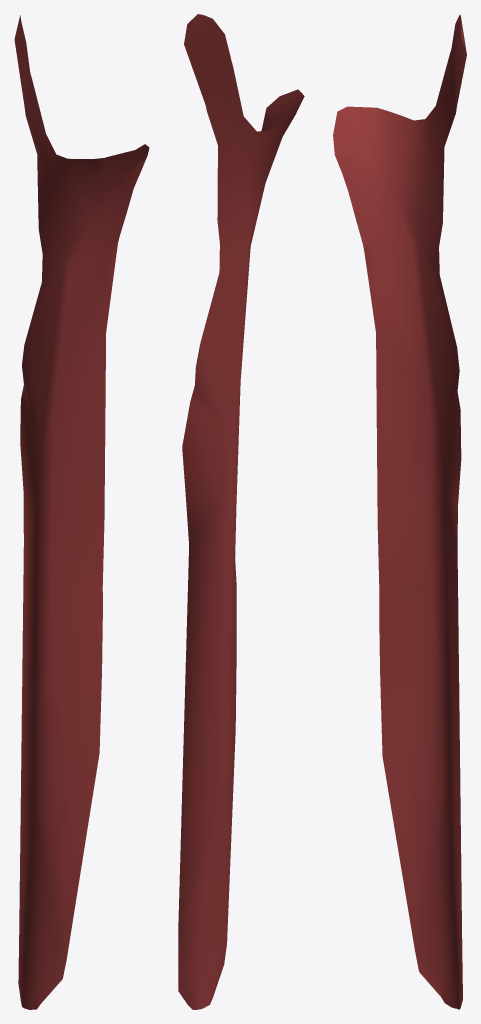
The model's file is fibularis-longus-muscle-or.glb.
3 views of the same model, side by side, from view 1: azimuth 90°, elevation 25°; view 2: azimuth 150°, elevation 25°; view 3: azimuth 270°, elevation 25° (orthographic).
Visible parts, largest first — view 1: Fibularis longus muscle.or; view 2: Fibularis longus muscle.or; view 3: Fibularis longus muscle.or.
Part boxes in pixels (x1,y1,x2,y2): Fibularis longus muscle.or: (14, 15, 149, 1009); Fibularis longus muscle.or: (178, 14, 304, 1009); Fibularis longus muscle.or: (333, 14, 466, 1009).
Size of the model in its own units: 0.0115 by 0.1463 by 0.018.
